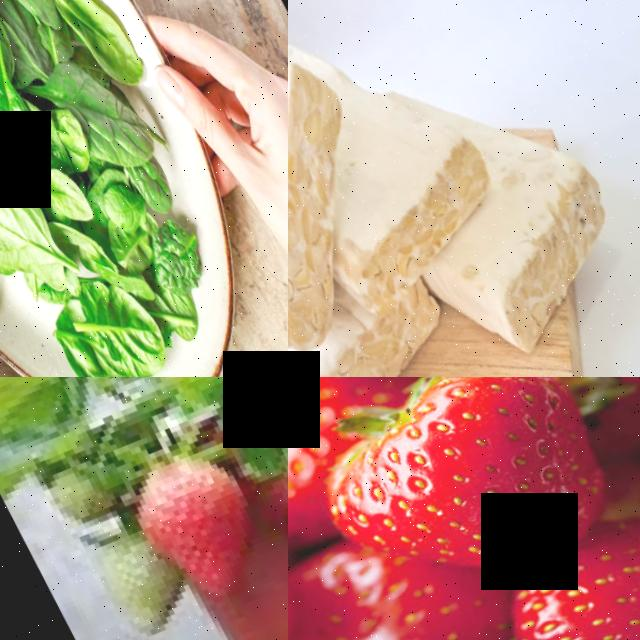spinach: (60, 249, 174, 377), (51, 44, 154, 175), (40, 0, 148, 92), (0, 169, 66, 306), (132, 196, 216, 292), (0, 67, 57, 191)
strawberry: (288, 377, 640, 635), (113, 428, 277, 612), (477, 463, 640, 640), (288, 574, 581, 640)
tempeh: (342, 61, 509, 253), (288, 0, 382, 255), (481, 117, 632, 274), (432, 208, 574, 354), (313, 182, 435, 314), (288, 165, 353, 377), (288, 297, 415, 377)
